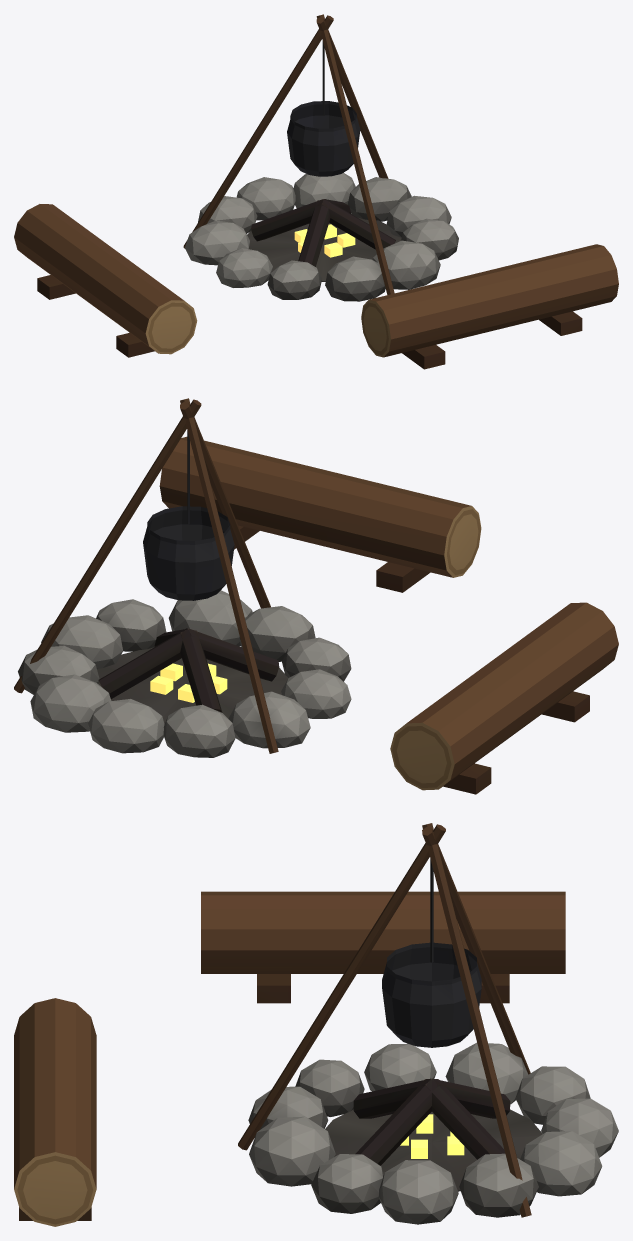
Rendered from camp_hearth_set.glb.
3 renders of one model, top to bottom at view 1: azimuth 30°, elevation 25°; view 2: azimuth 150°, elevation 25°; view 3: azimuth 270°, elevation 25°, orthographic. The views are drawn at different scales.
Parts seen in each view (by area): view 1: camp_hearth_set; view 2: camp_hearth_set; view 3: camp_hearth_set.
Part boxes in pixels (x1,y1,x2,y2): camp_hearth_set: (14,14,618,369); camp_hearth_set: (14,398,618,794); camp_hearth_set: (14,823,618,1226).
Size of the model in its own units: 2.68 by 1.47 by 2.49.
